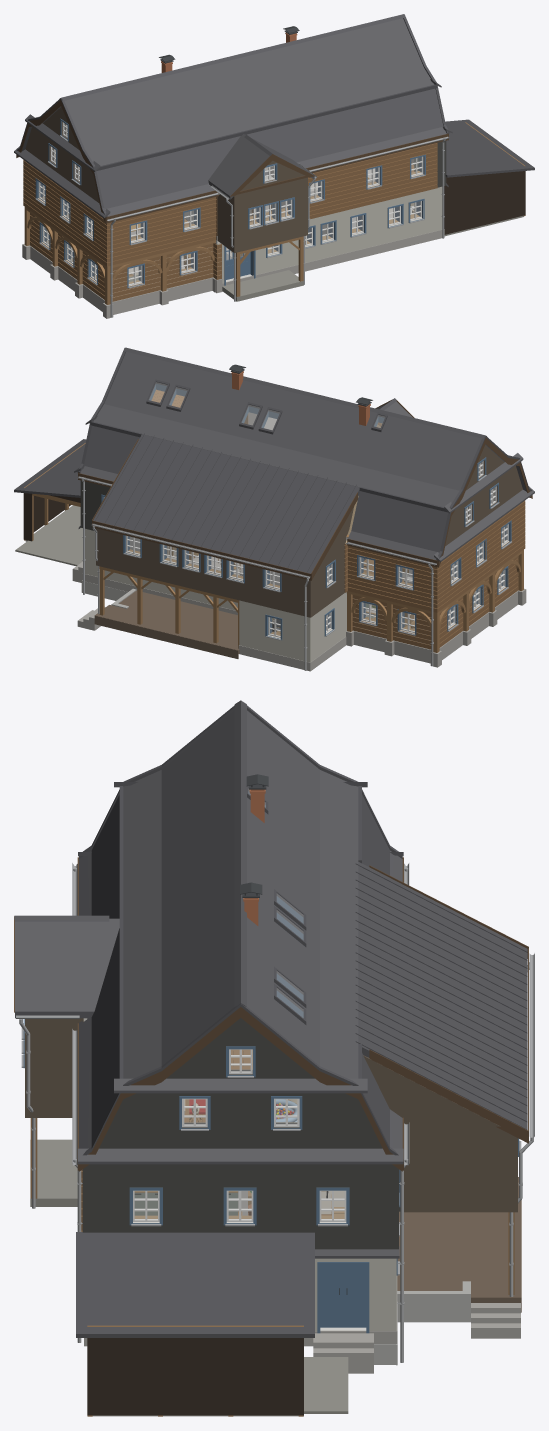
Rendered from chalupa.glb.
3 renders of one model, top to bottom at view 1: azimuth 30°, elevation 25°; view 2: azimuth 150°, elevation 25°; view 3: azimuth 270°, elevation 25°, orthographic. The views are drawn at different scales.
Visible parts, largest first — view 1: CH_roof_dacora, CH_facade_log, CH_roof_metal, CH_clad_wood, CH_facade_plaster, CH_trim_ext, CH_clad_dark, CH_beam, CH_window_frame, CH_stone, CH_fascia, CH_zinc (+7 smaller); view 2: CH_roof_dacora, CH_roof_metal, CH_facade_log, CH_clad_wood, CH_facade_plaster, CH_beam, CH_deck, CH_trim_ext, CH_fascia, CH_glass, CH_window_frame, CH_stone (+9 smaller); view 3: CH_roof_dacora, CH_roof_metal, CH_shingle_wall, CH_clad_wood, CH_clad_dark, CH_deck, CH_fascia, CH_zinc, CH_paving, CH_trim_ext, CH_glass, CH_zidka (+7 smaller).
Part boxes in pixels (<box>): CH_roof_dacora: <box>14,18,452,218</box>; CH_facade_log: <box>23,143,437,301</box>; CH_roof_metal: <box>16,14,534,217</box>; CH_clad_wood: <box>25,126,307,252</box>; CH_facade_plaster: <box>222,186,442,283</box>; CH_trim_ext: <box>35,118,425,288</box>; CH_clad_dark: <box>444,171,525,234</box>; CH_beam: <box>24,122,525,304</box>; CH_window_frame: <box>38,122,423,285</box>; CH_stone: <box>22,244,222,318</box>; CH_fascia: <box>16,100,448,223</box>; CH_zinc: <box>35,135,449,317</box>; CH_roof_dacora: <box>74,352,534,561</box>; CH_roof_metal: <box>14,347,531,573</box>; CH_facade_log: <box>344,500,525,649</box>; CH_clad_wood: <box>96,465,522,617</box>; CH_facade_plaster: <box>85,528,346,662</box>; CH_beam: <box>24,414,523,652</box>; CH_deck: <box>94,590,239,658</box>; CH_trim_ext: <box>101,383,511,640</box>; CH_fascia: <box>78,400,532,580</box>; CH_glass: <box>127,382,506,635</box>; CH_window_frame: <box>104,461,508,637</box>; CH_stone: <box>72,561,526,667</box>; CH_roof_dacora: <box>15,710,403,1258</box>; CH_roof_metal: <box>14,700,527,1337</box>; CH_shingle_wall: <box>82,1018,400,1249</box>; CH_clad_wood: <box>25,1018,517,1212</box>; CH_clad_dark: <box>87,1338,303,1415</box>; CH_deck: <box>397,1177,521,1312</box>; CH_fascia: <box>14,857,528,1171</box>; CH_zinc: <box>16,863,534,1362</box>; CH_paving: <box>30,1139,348,1416</box>; CH_trim_ext: <box>23,791,519,1333</box>; CH_glass: <box>135,788,344,1219</box>; CH_zidka: <box>374,1281,470,1365</box>.
Bounding box in the file's own units: 24.45 × 11.49 × 14.17.
